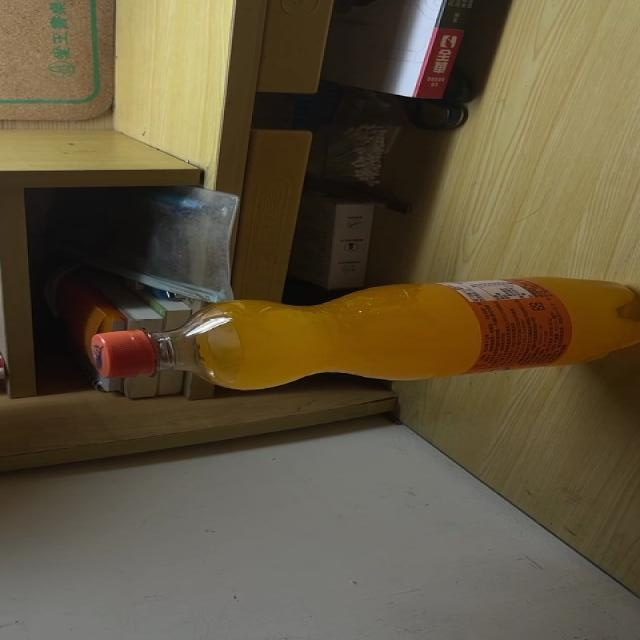Fanta: (89, 276, 640, 391)
